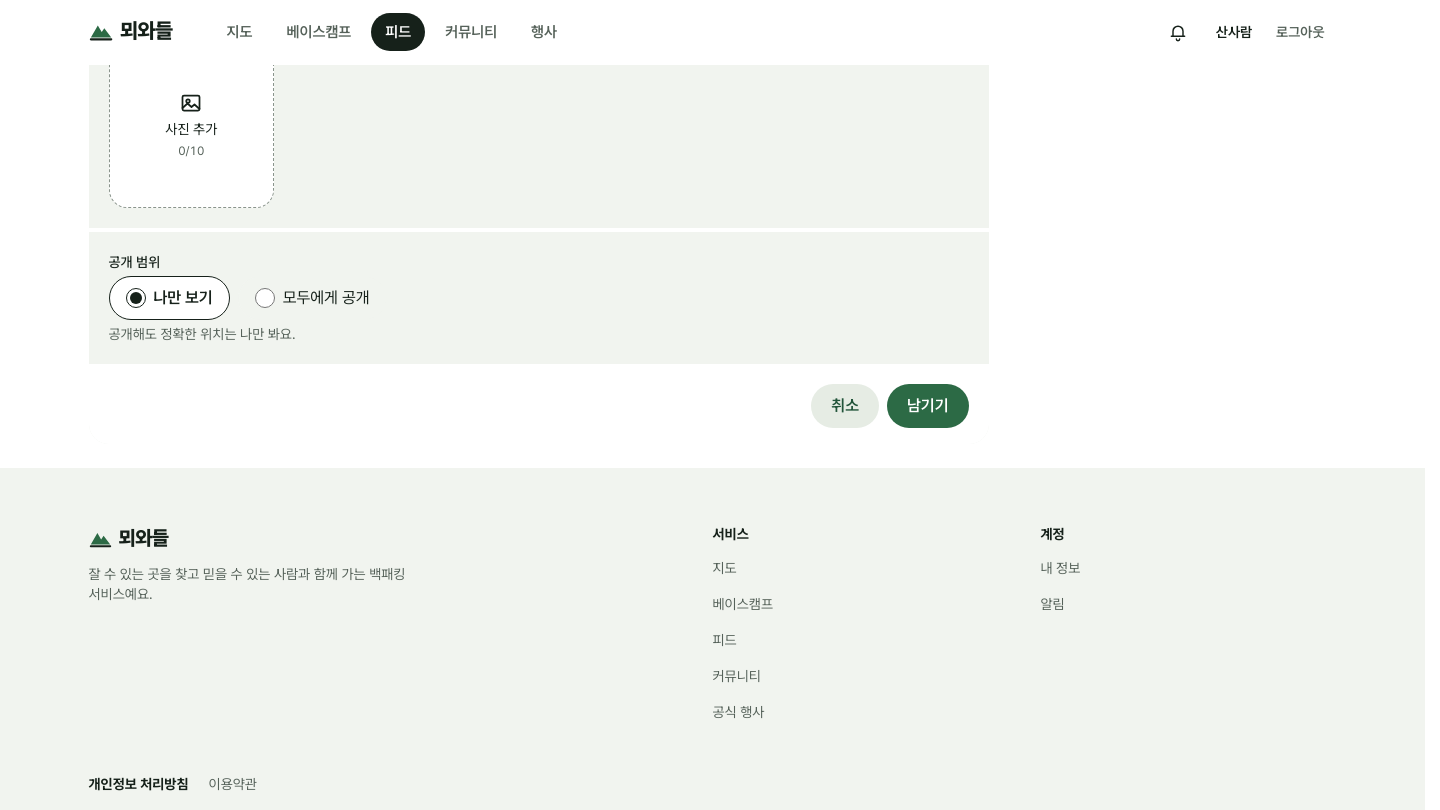
기록 남기기 화면: 저장할 때 › 저장하는 중에 다른 화면으로 간 뒤 서버 오류가 나면 실패했다는 알림이 뜬다
(page scrolled)
Click the button "남기기": coordinates (928, 406) [887,384,968,428]
(page scrolled)
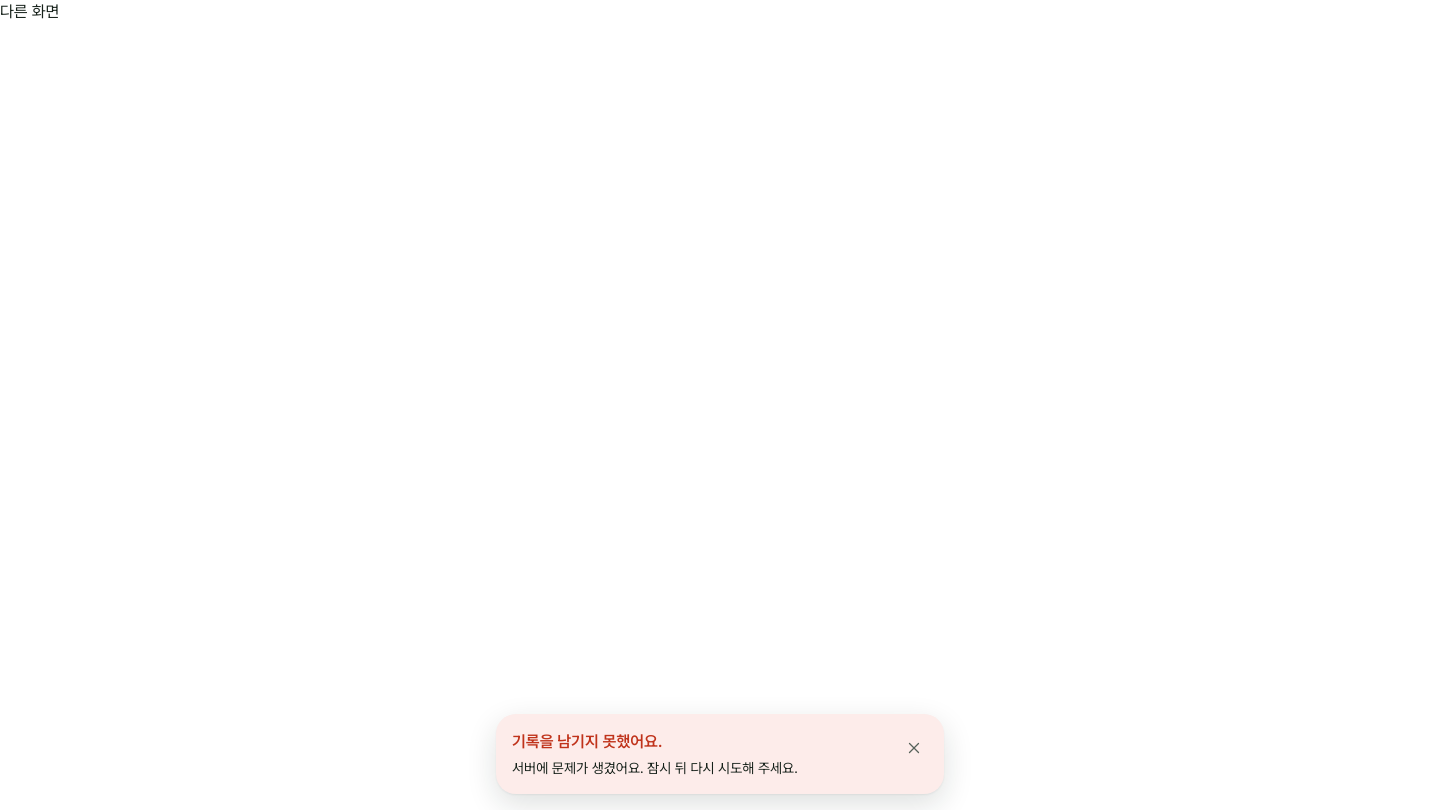
Check: the message "기록을 남기지 못했어요. 서버에 문제가 생겼어요. 잠시 뒤 다시 시도해 주세요." is shown, box [496,714,944,794]
